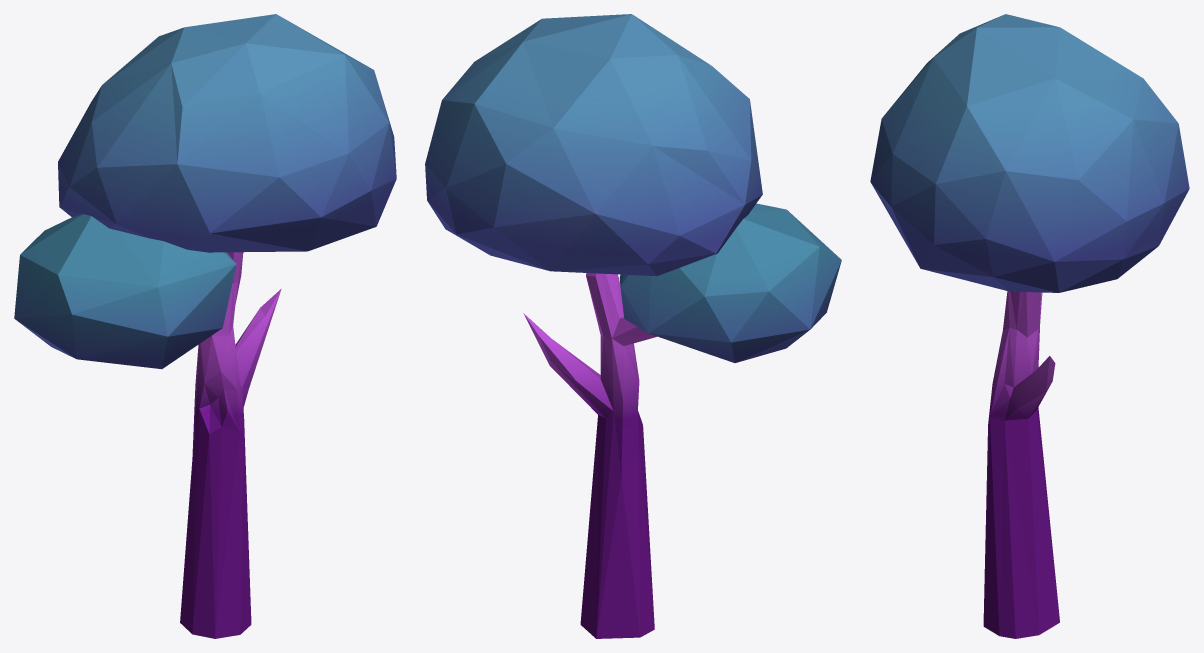
The model's file is tree_2.fbx.
3 views of the same model, side by side, from view 1: azimuth 30°, elevation 25°; view 2: azimuth 150°, elevation 25°; view 3: azimuth 270°, elevation 25° (orthographic).
Parts seen in each view (by area): view 1: tree_2; view 2: tree_2; view 3: tree_2.
Part boxes in pixels (bbox=[...]): tree_2: bbox=[14, 14, 396, 638]; tree_2: bbox=[425, 14, 841, 638]; tree_2: bbox=[870, 14, 1189, 638].
Size of the model in its own units: 209 by 321 by 155.
